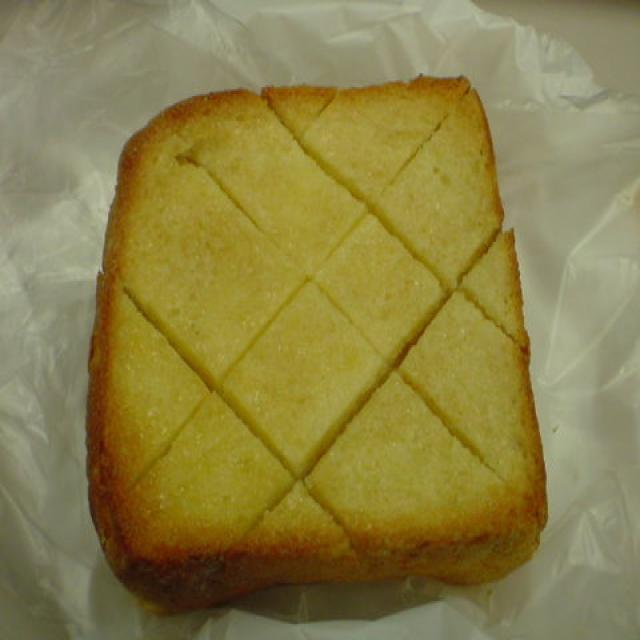面包点心: (86, 69, 550, 619)
